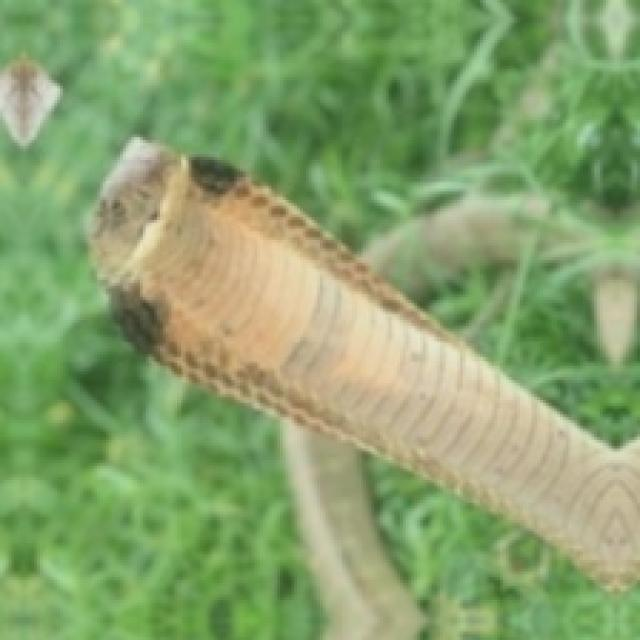king cobra: (91, 137, 637, 586), (289, 440, 417, 631)
